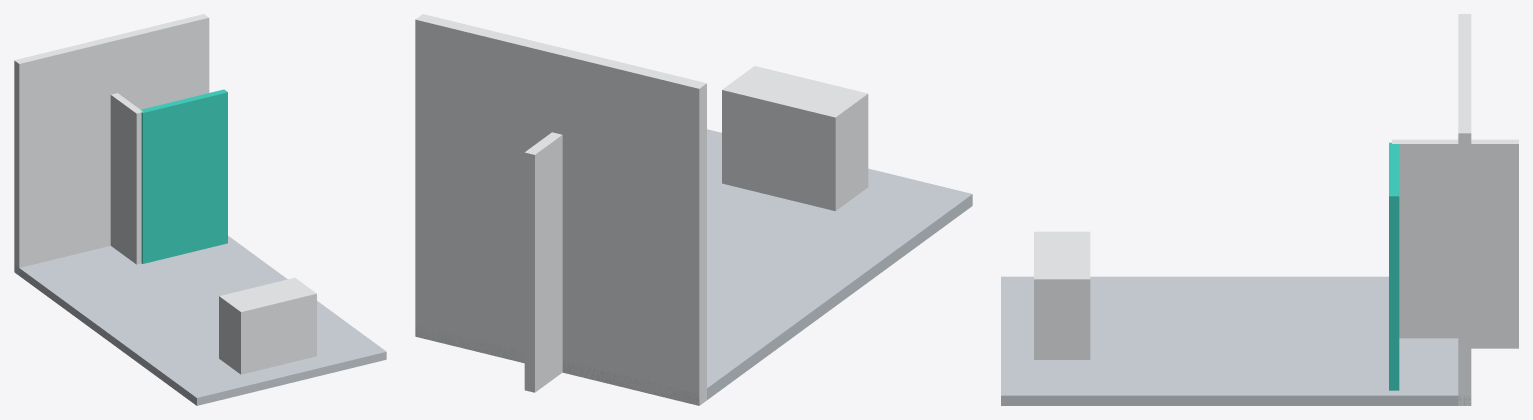
The picture shows the model from 3 angles, left to right: view 1: azimuth 30°, elevation 25°; view 2: azimuth 150°, elevation 25°; view 3: azimuth 270°, elevation 25°; orthographic projection. The views are drawn at different scales.
Visible parts, largest first — view 1: Exhibition Booth Concept; view 2: Exhibition Booth Concept; view 3: Exhibition Booth Concept.
Part boxes in pixels (left/top/right/bottom): Exhibition Booth Concept: left=14, top=14, right=386, bottom=405; Exhibition Booth Concept: left=415, top=14, right=972, bottom=405; Exhibition Booth Concept: left=1001, top=14, right=1518, bottom=405.
Size of the model in its own units: 3 by 3.2 by 5.51.
